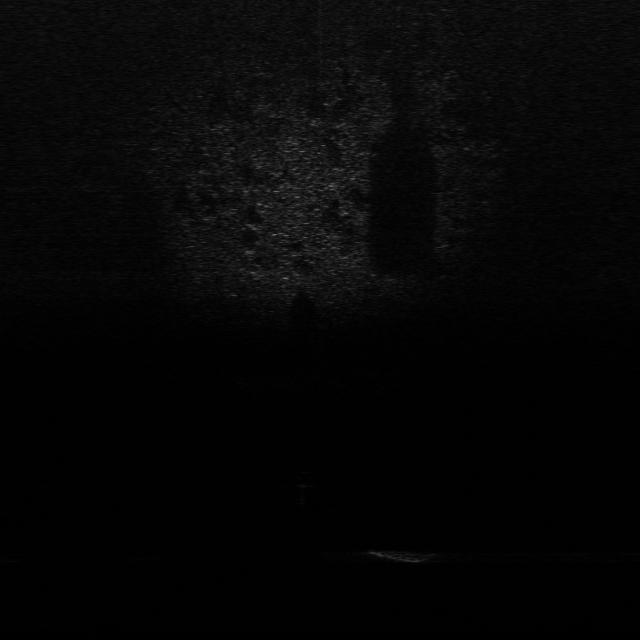ball: (292, 468, 318, 491)
metal bucket: (328, 538, 457, 569)
